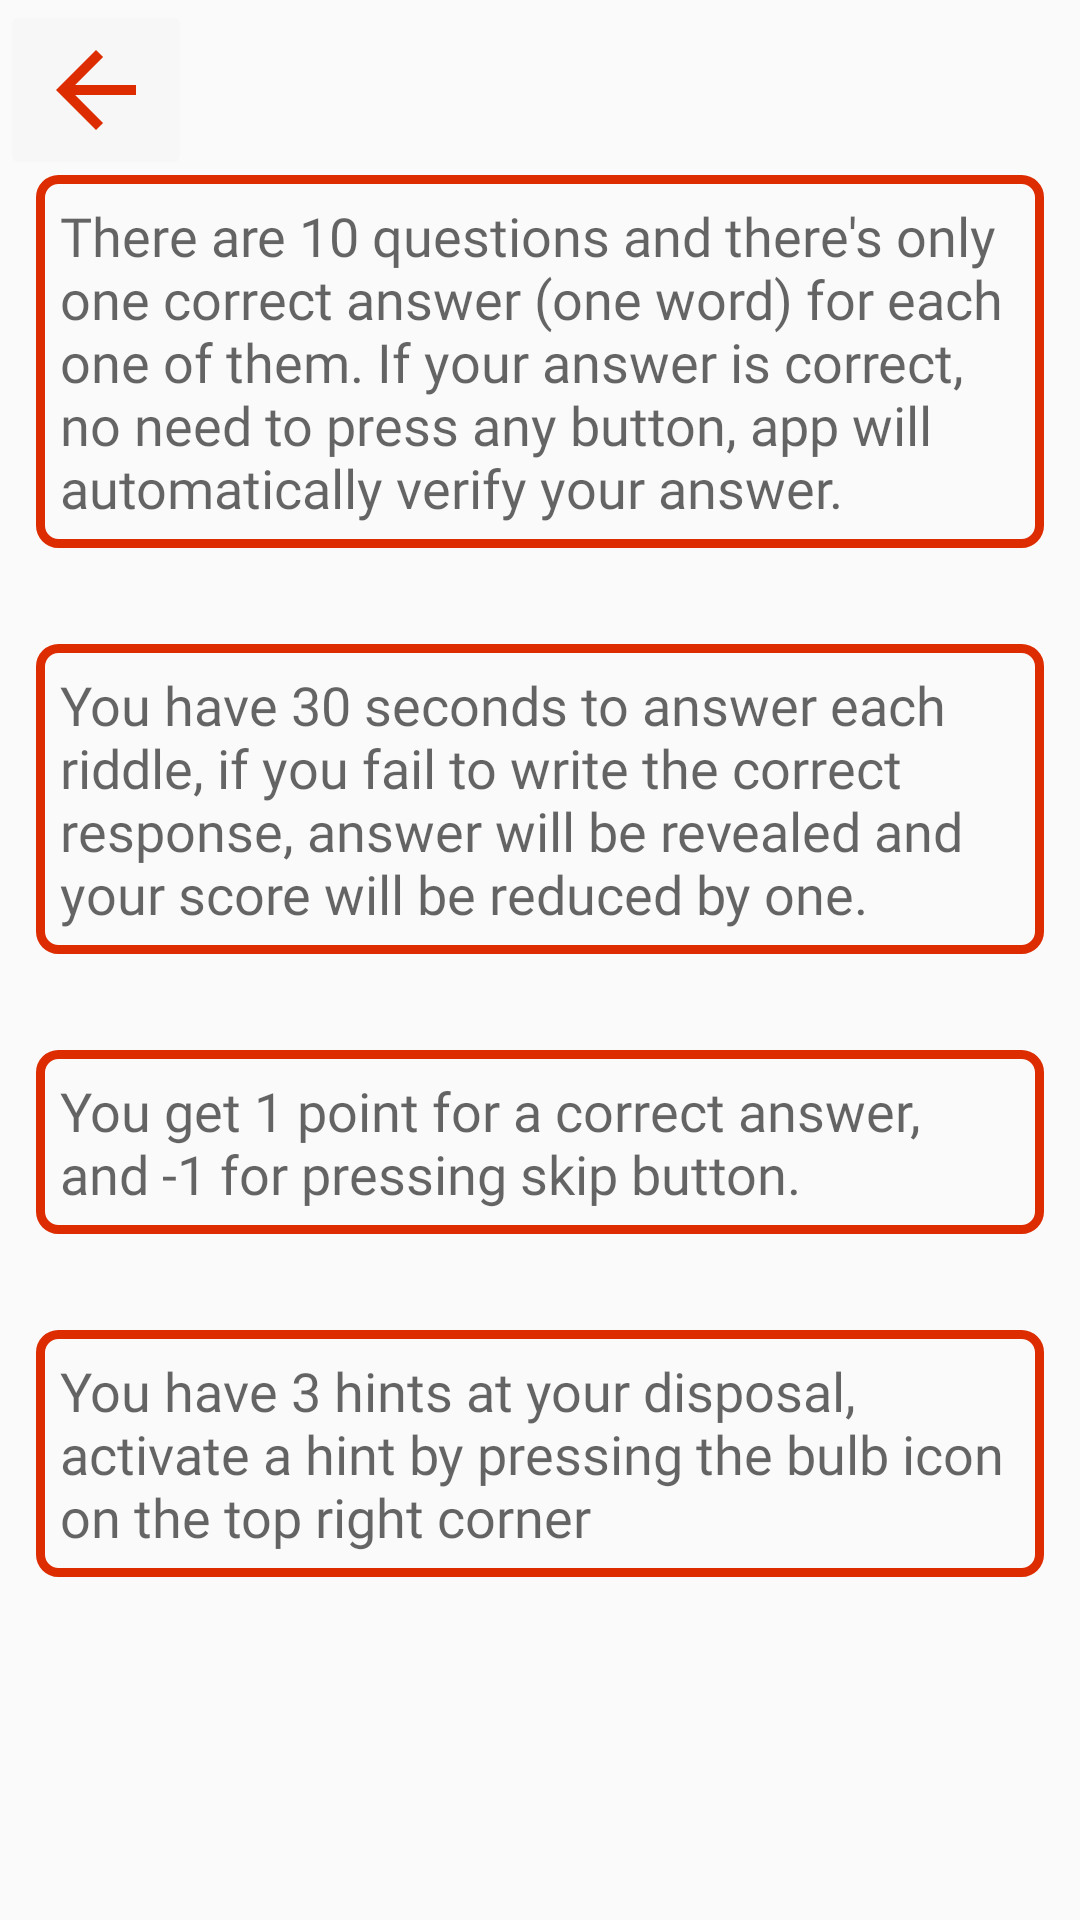

Locate icon controls on the screen. Image size 1080*1920, boxes as (x1=x1, y1=y1, x2=x2, y2=y2).
arrow back: (x1=56, y1=50, x2=136, y2=130)
